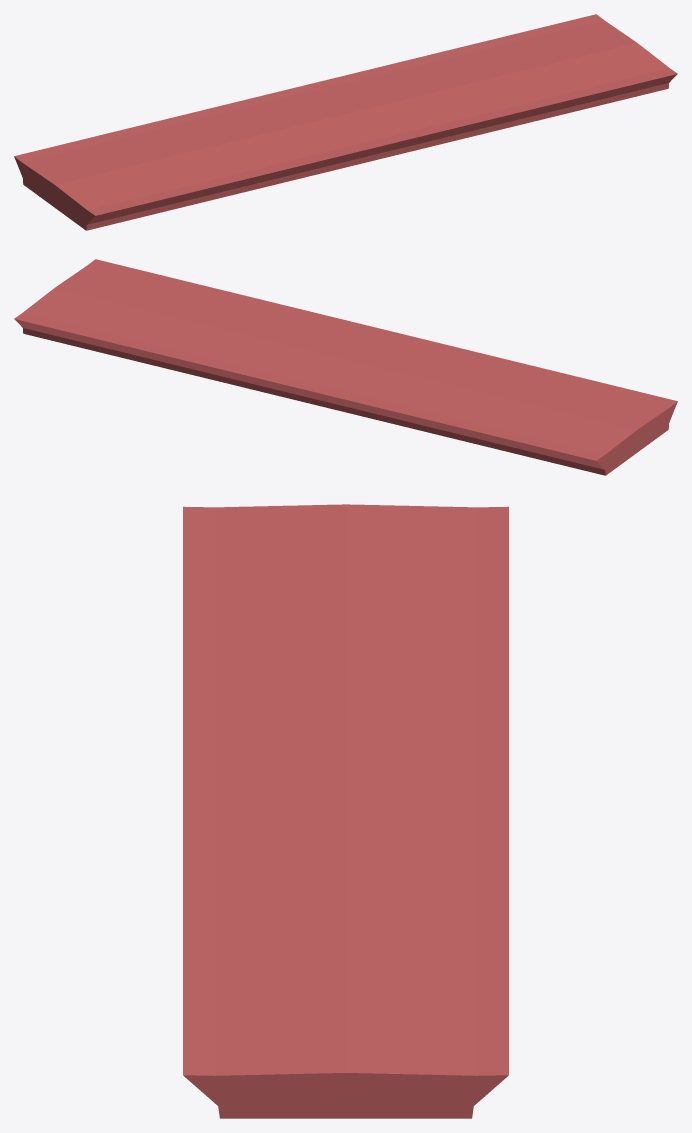
The model's file is bridge3_deck.obj.
3 renders of one model, top to bottom at view 1: azimuth 30°, elevation 25°; view 2: azimuth 150°, elevation 25°; view 3: azimuth 270°, elevation 25°, orthographic. The views are drawn at different scales.
Parts seen in each view (by area): view 1: mesh_0; view 2: mesh_0; view 3: mesh_0.
Boxes of the visible parts, <box> form: mesh_0: <box>14,14,677,230</box>; mesh_0: <box>14,259,677,475</box>; mesh_0: <box>183,504,508,1118</box>.
Size of the model in its own units: 80 by 3 by 19.4.
